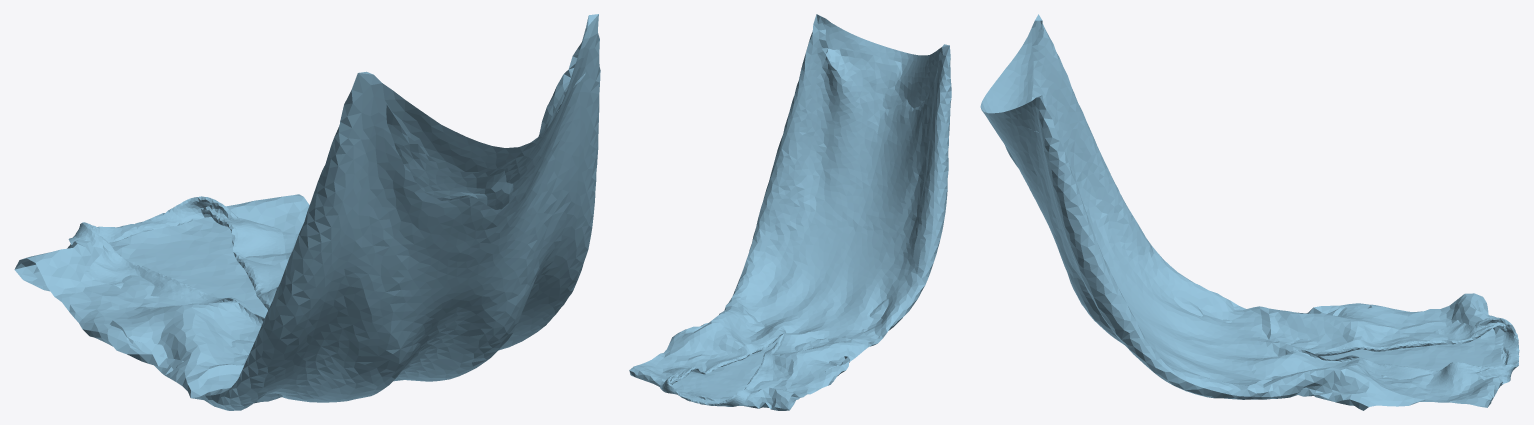
The model's file is frame_07.glb.
3 renders of one model, left to right at view 1: azimuth 30°, elevation 25°; view 2: azimuth 150°, elevation 25°; view 3: azimuth 270°, elevation 25°, orthographic. The views are drawn at different scales.
Parts seen in each view (by area): view 1: frame_07.obj; view 2: frame_07.obj; view 3: frame_07.obj.
Boxes of the visible parts, x1,y1,x2,y2 form: frame_07.obj: (14, 14, 600, 410); frame_07.obj: (629, 14, 951, 410); frame_07.obj: (980, 14, 1519, 410).
Bounding box in the file's own units: 0.6431 × 0.8397 × 1.34.
